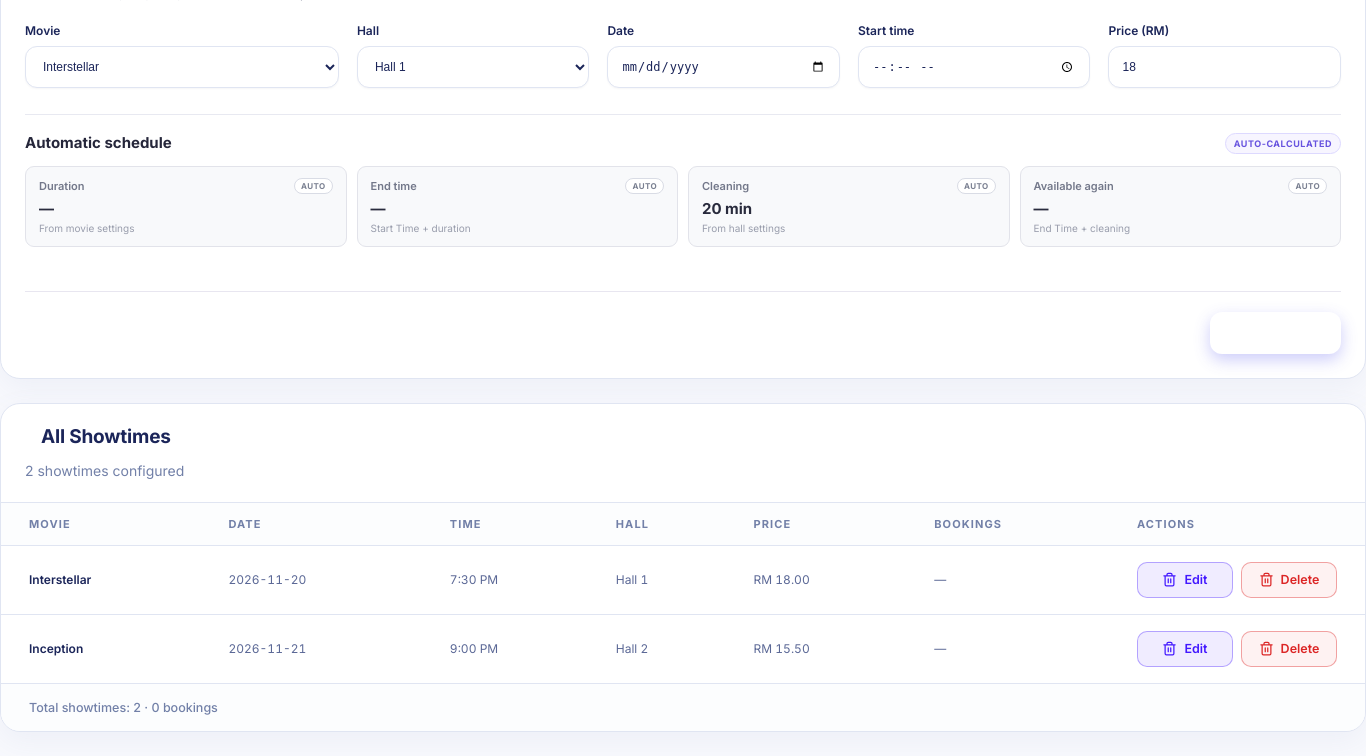
Test: Showtimes Admin Page › should cancel editing and reset the form
The image size is (1366, 756).
(page scrolled)
Expected: the heading "All Showtimes" is shown, left=41, top=425, right=171, bottom=448
What coordinates should you click on to do the following:
click the button "Edit" in the row of "Interstellar"
I would click on:
 (1185, 580)
Its box is left=1137, top=562, right=1233, bottom=598.
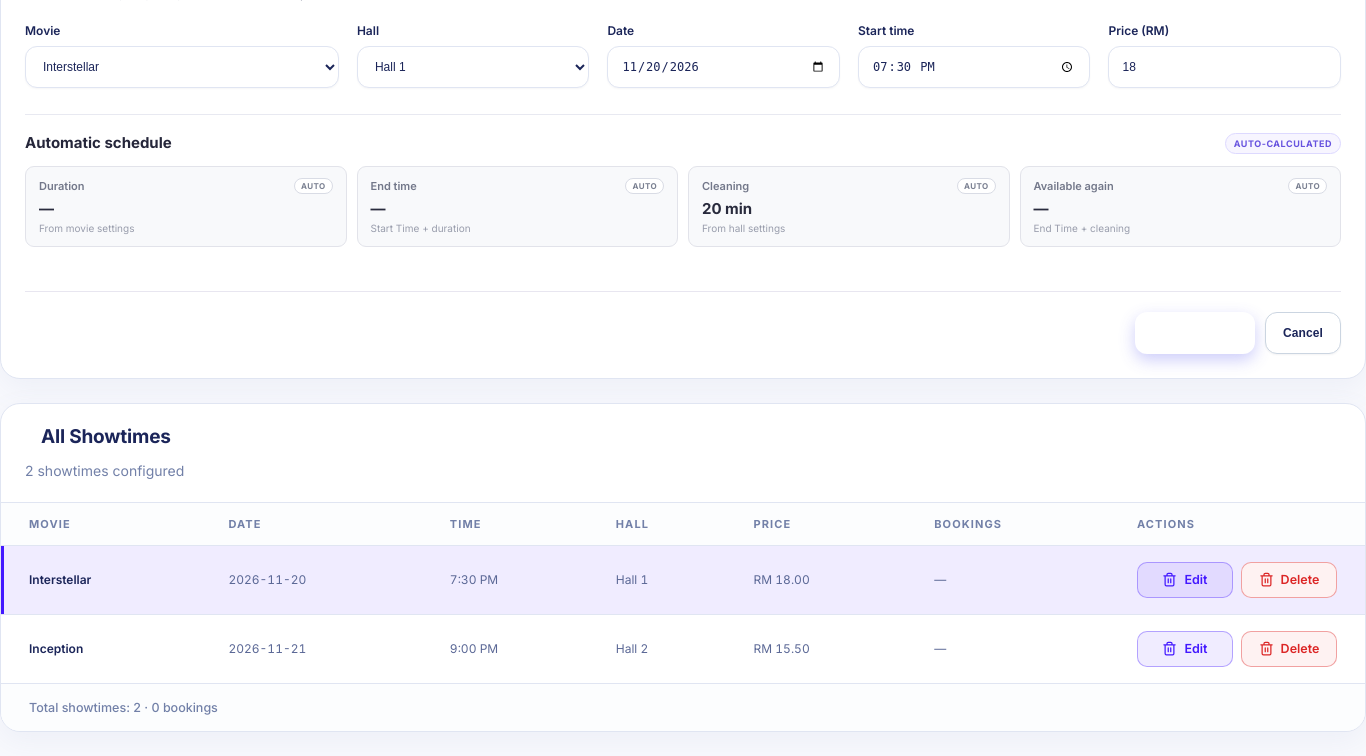
What coordinates should you click on to do the following:
click the button "Cancel"
I would click on:
 (1303, 333)
Its box is left=1265, top=312, right=1341, bottom=354.
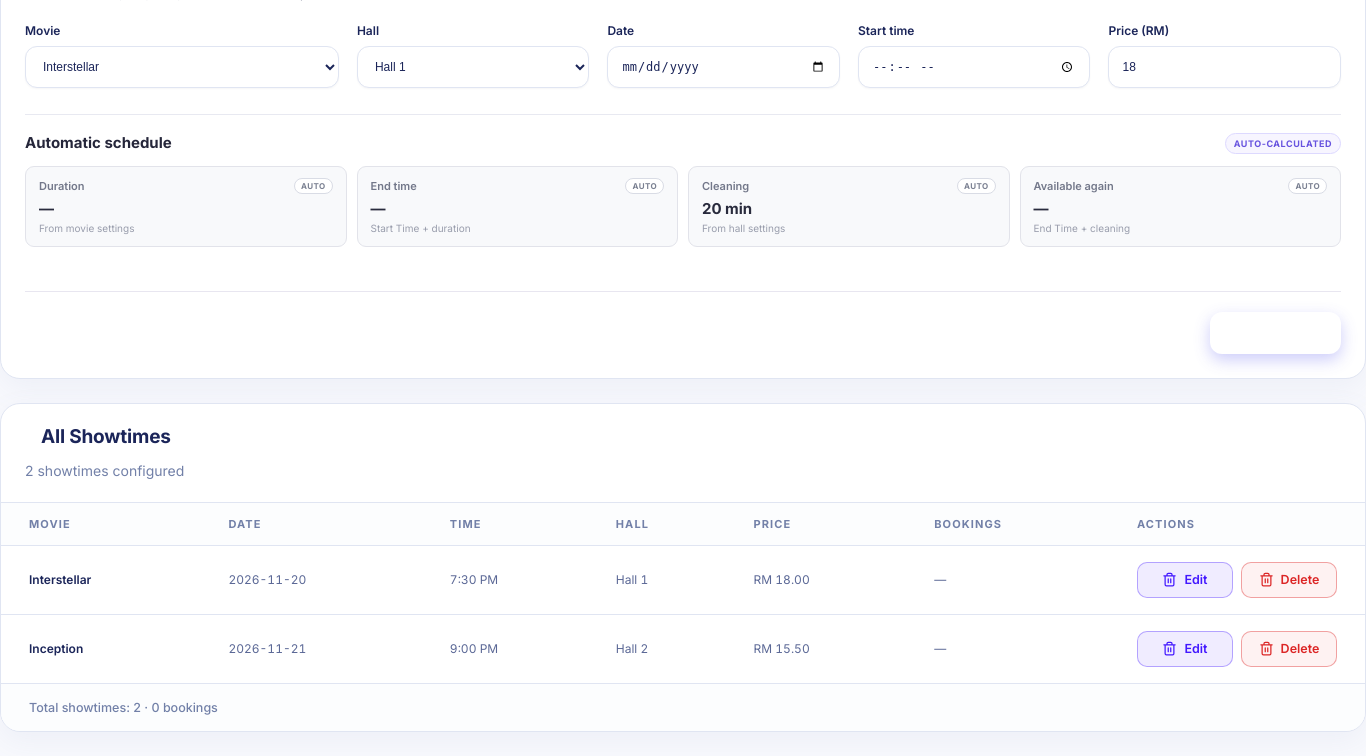
Expected: the dropdown labelled "Movie" shows "Interstellar", left=25, top=46, right=339, bottom=88
Result: the date field labelled "Date" is empty at left=607, top=46, right=840, bottom=88
Result: the time field labelled "Start time" is empty at left=858, top=46, right=1090, bottom=88
